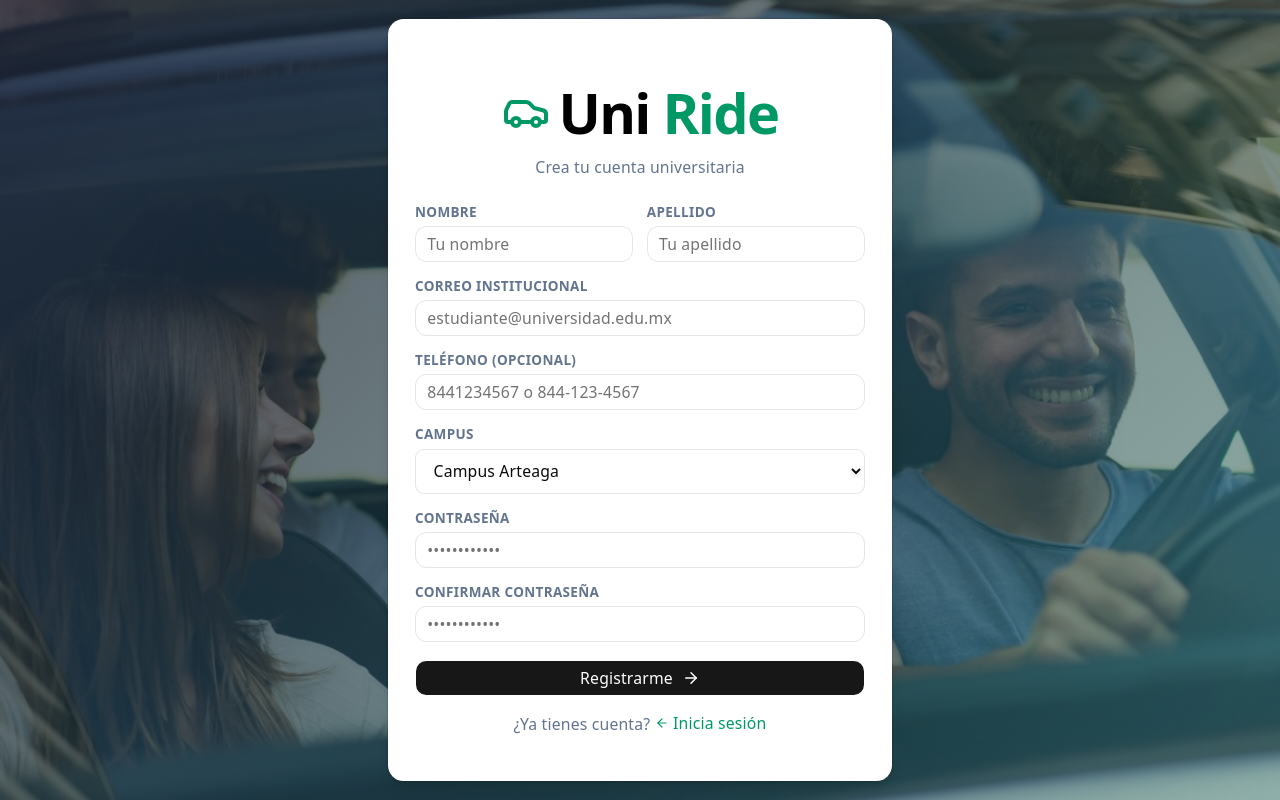
it: Registro de usuarios › rechaza datos inválidos y muestra el error correspondiente
Type "A" into the field labelled "NOMBRE".
click(524, 244); type("A")  # box [415,226,633,262]
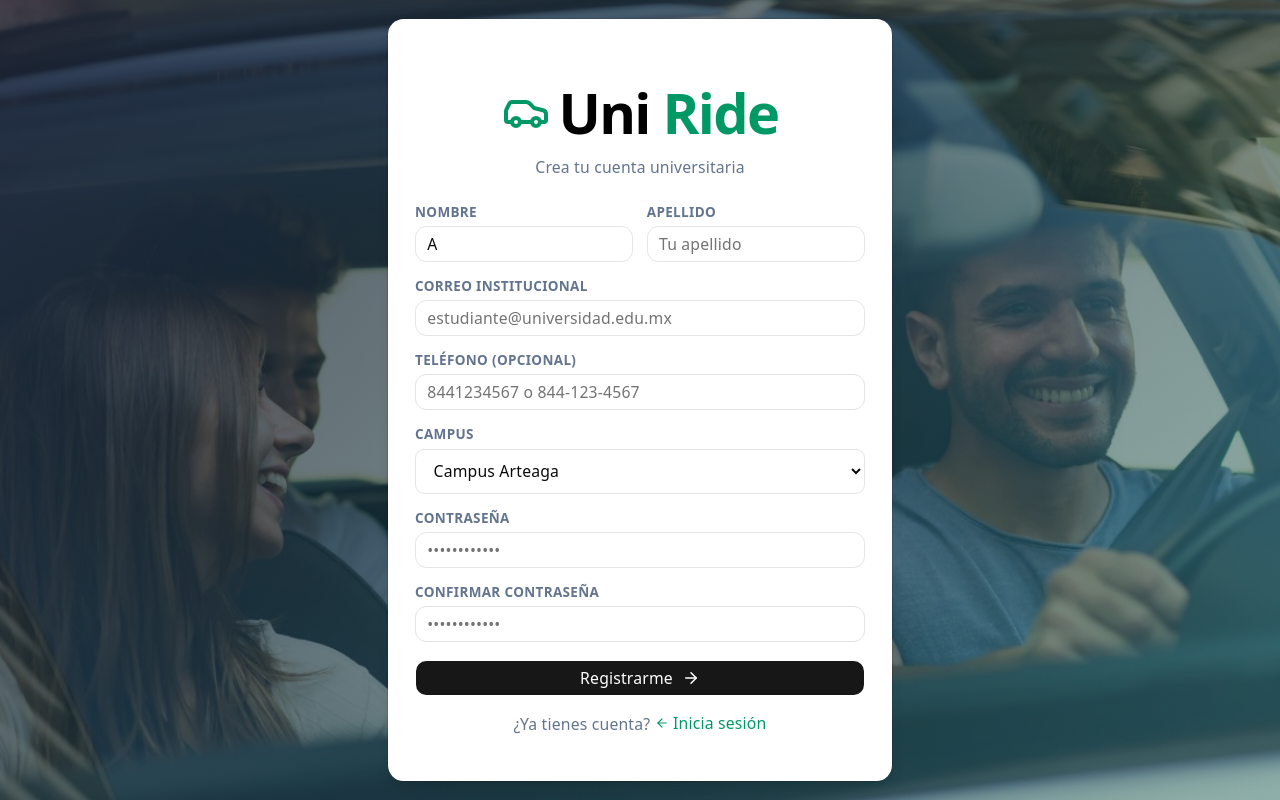
Type "Lopez" into the field labelled "APELLIDO".
click(756, 244); type("Lopez")  # box [647,226,865,262]
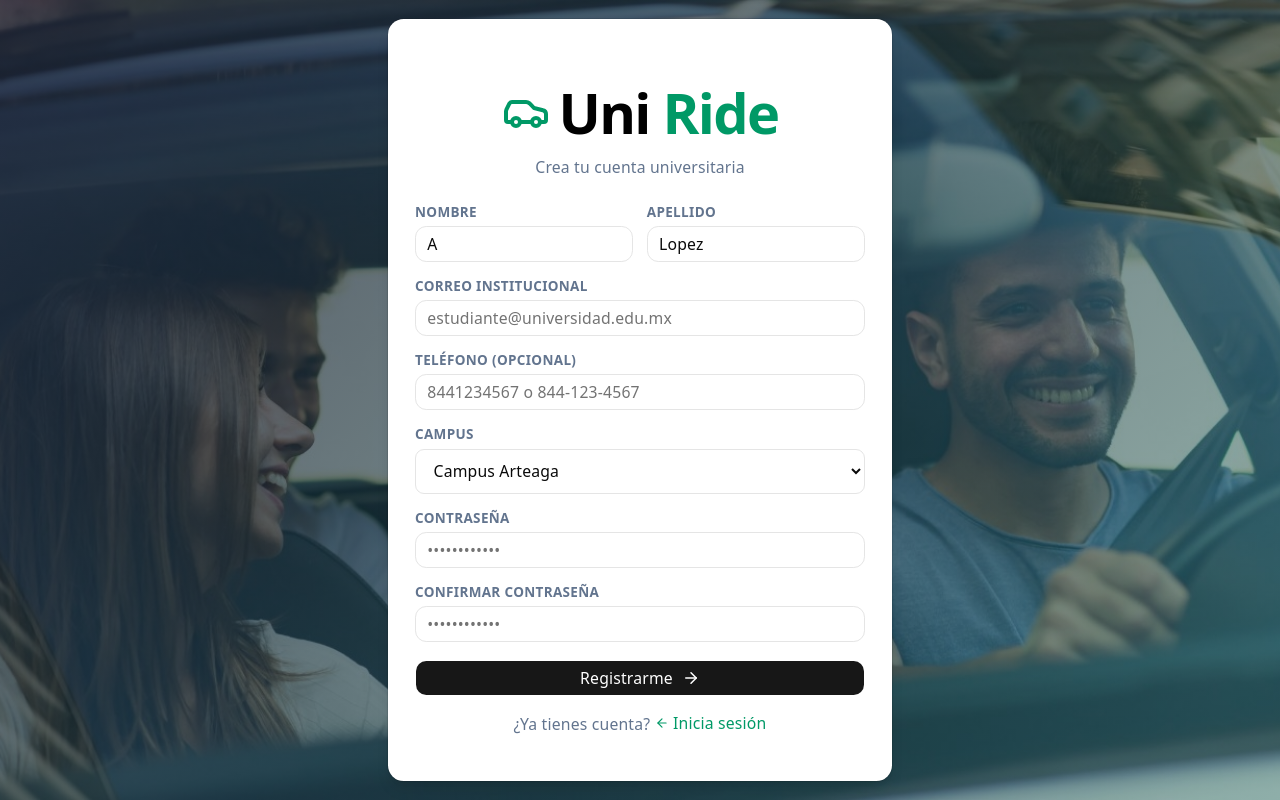
Type "ana@universidad.edu.mx" into the field labelled "CORREO INSTITUCIONAL".
click(640, 318); type("ana@universidad.edu.mx")  # box [415,300,865,336]
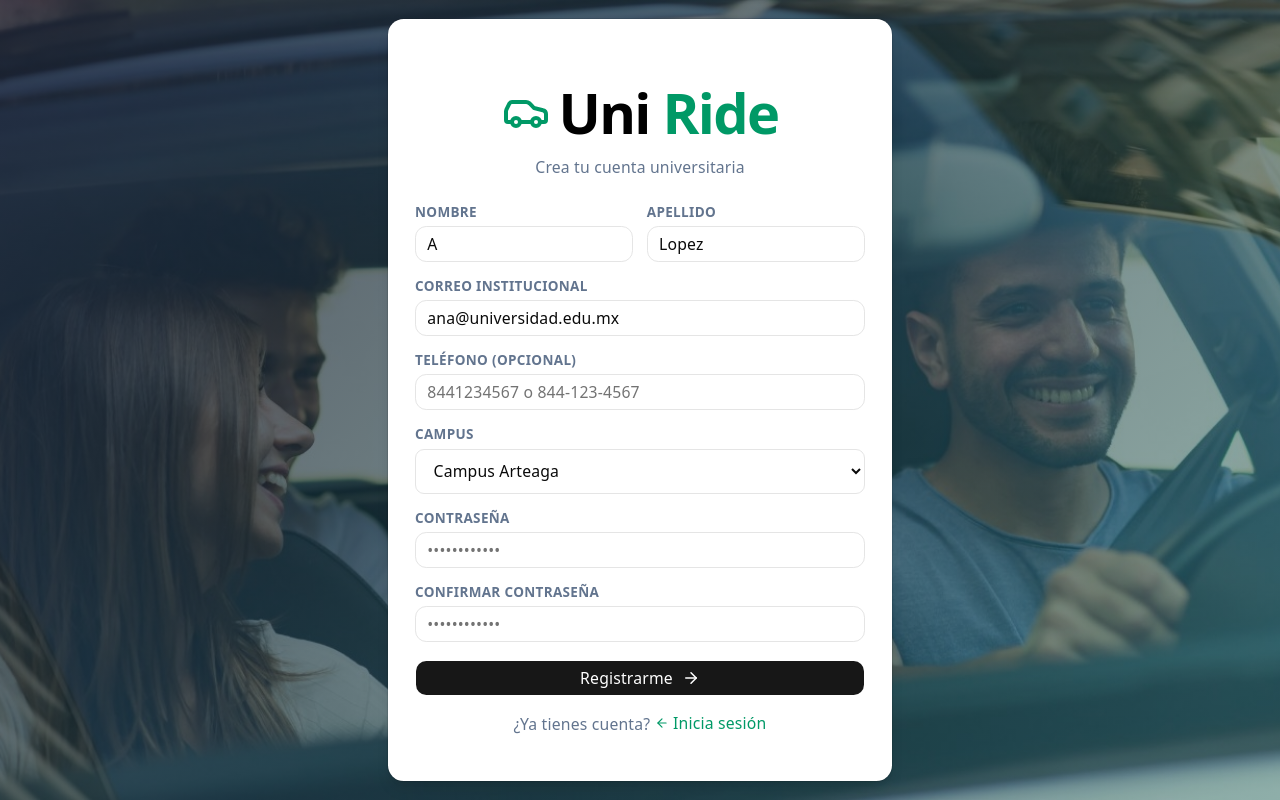
Type "Clave123!" into the password field labelled "CONTRASEÑA".
click(640, 550); type("Clave123!")  # box [415,532,865,568]
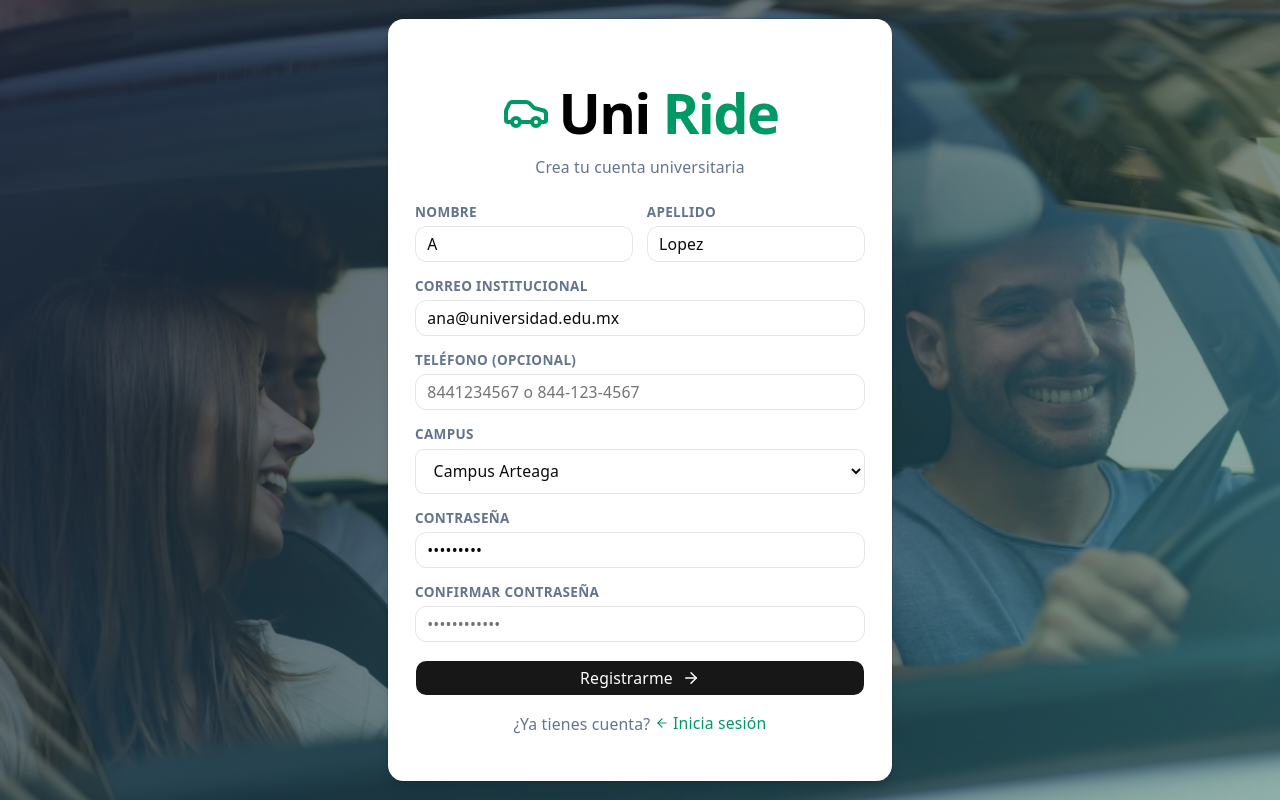
Type "Clave123!" into the password field labelled "CONFIRMAR CONTRASEÑA".
click(640, 624); type("Clave123!")  # box [415,606,865,642]
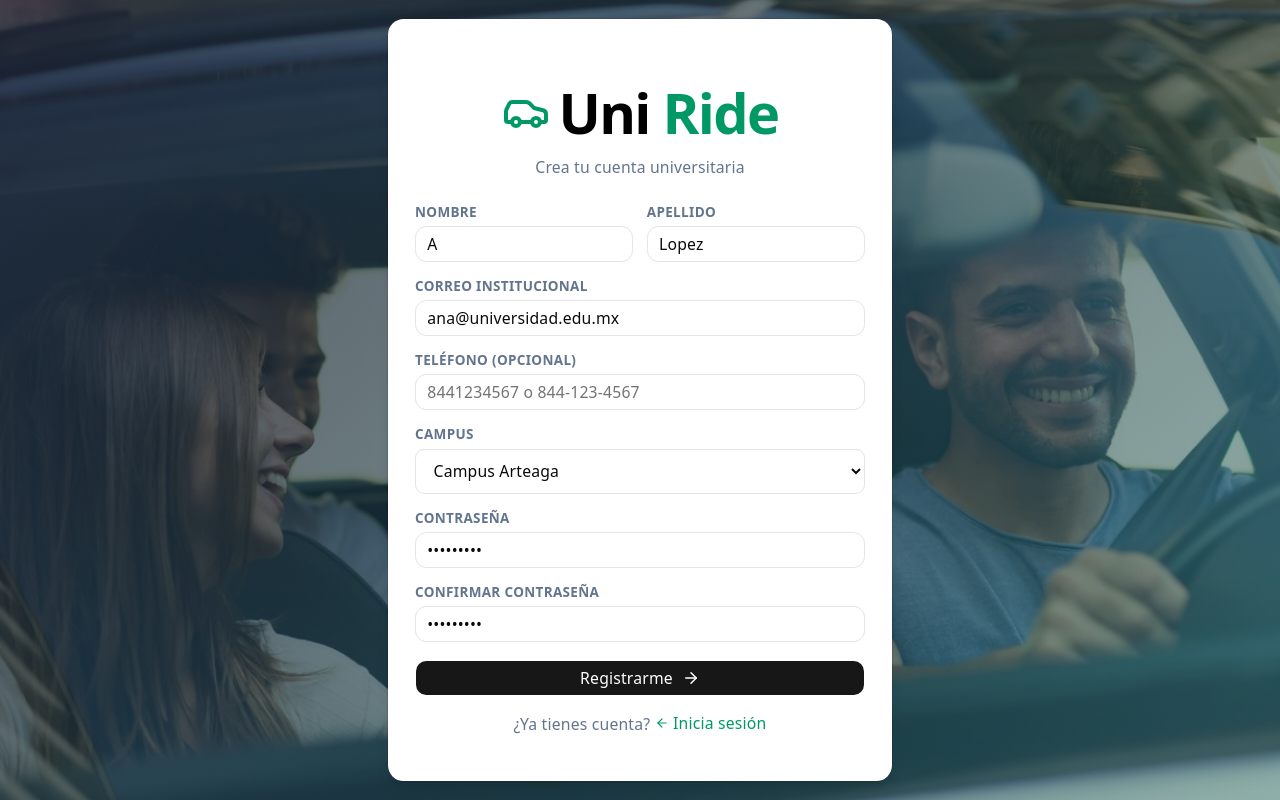
Submit the form named "Registrarme", box [415,206,865,712]
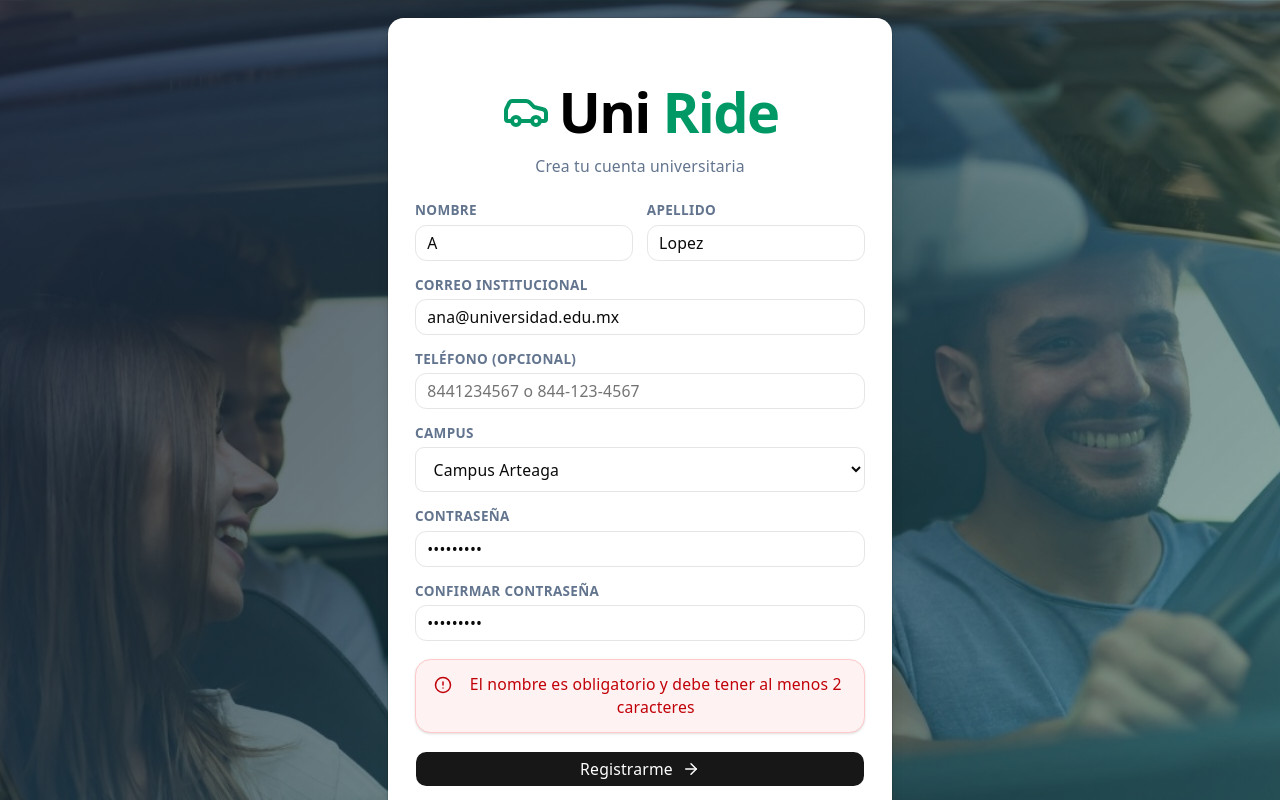
Result: the text "El nombre es obligatorio y debe tener al menos 2 caracteres" is shown at [466,673,846,718]
